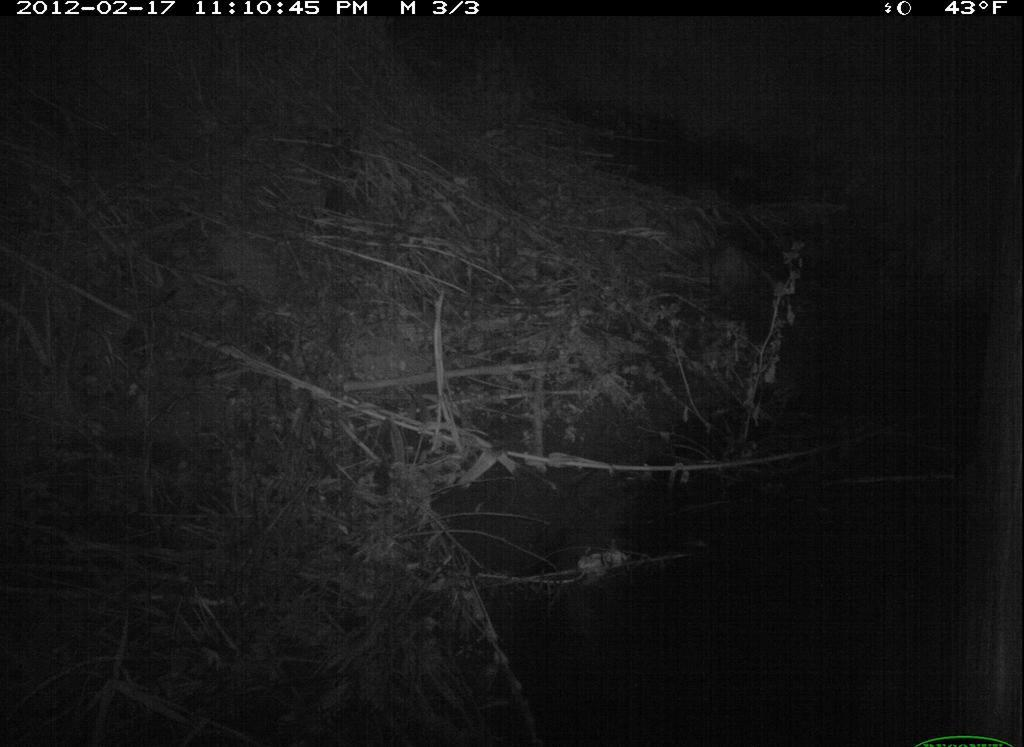opossum: (694, 226, 775, 326)
